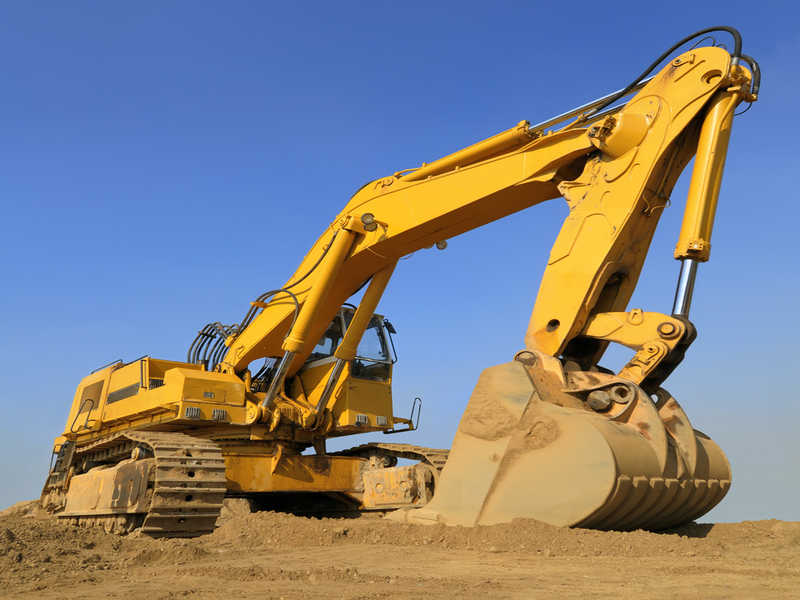shovel: (32, 25, 766, 543)
